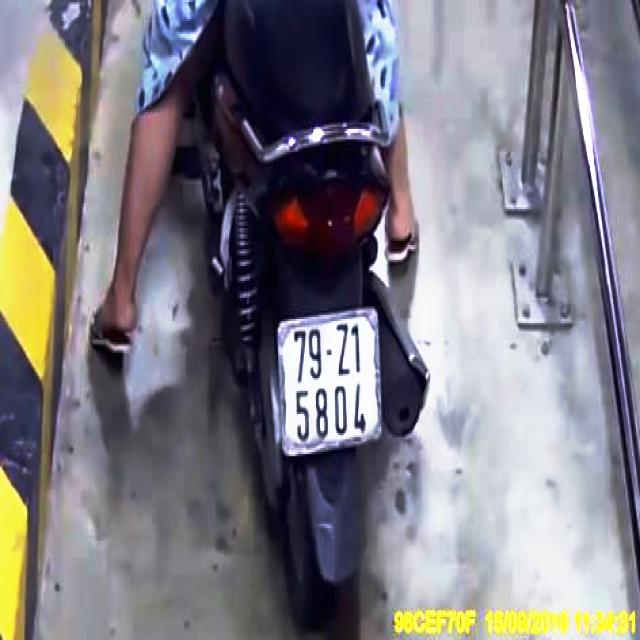license_plate: (282, 315, 381, 450)
